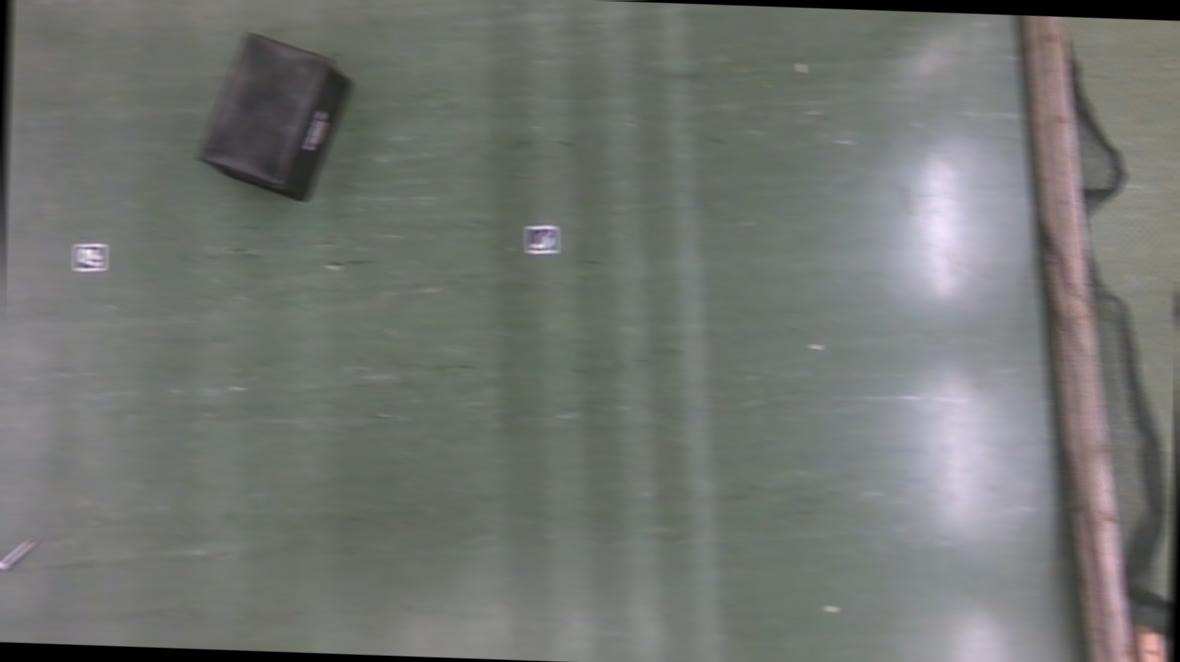probes: (0, 536, 36, 575)
rako: (194, 30, 356, 203)
